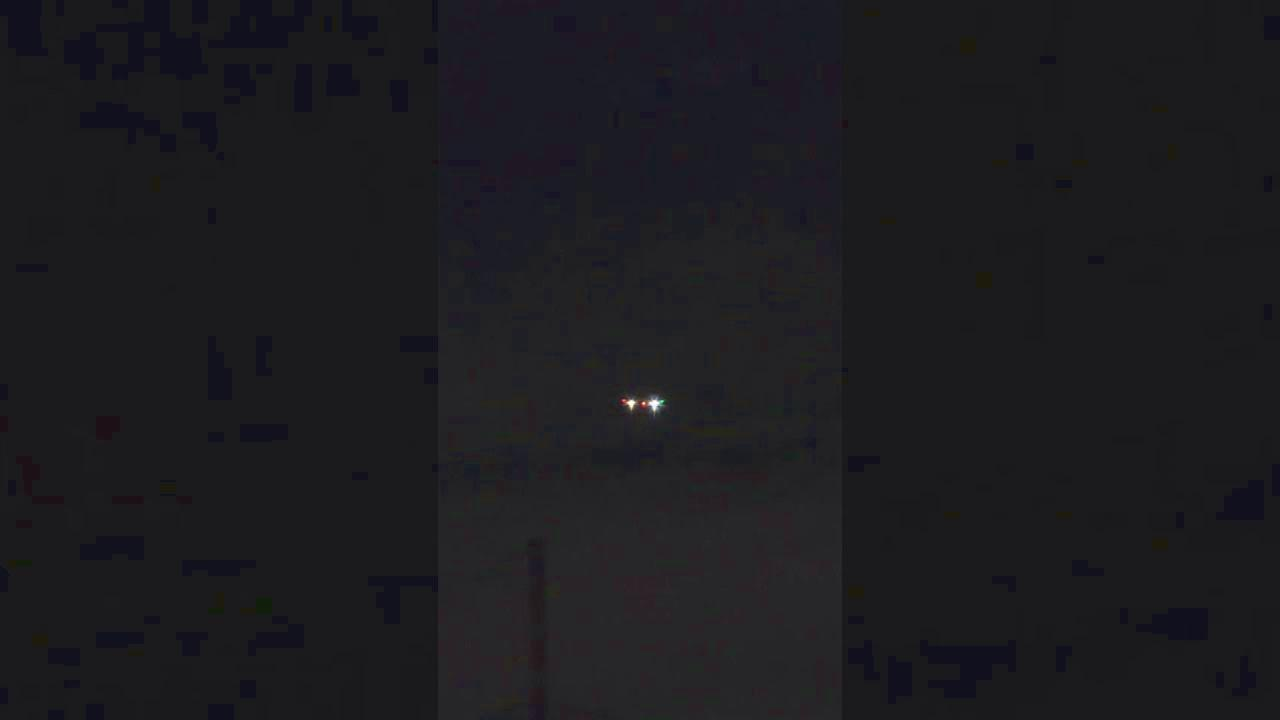Plane: (587, 378, 704, 431)
